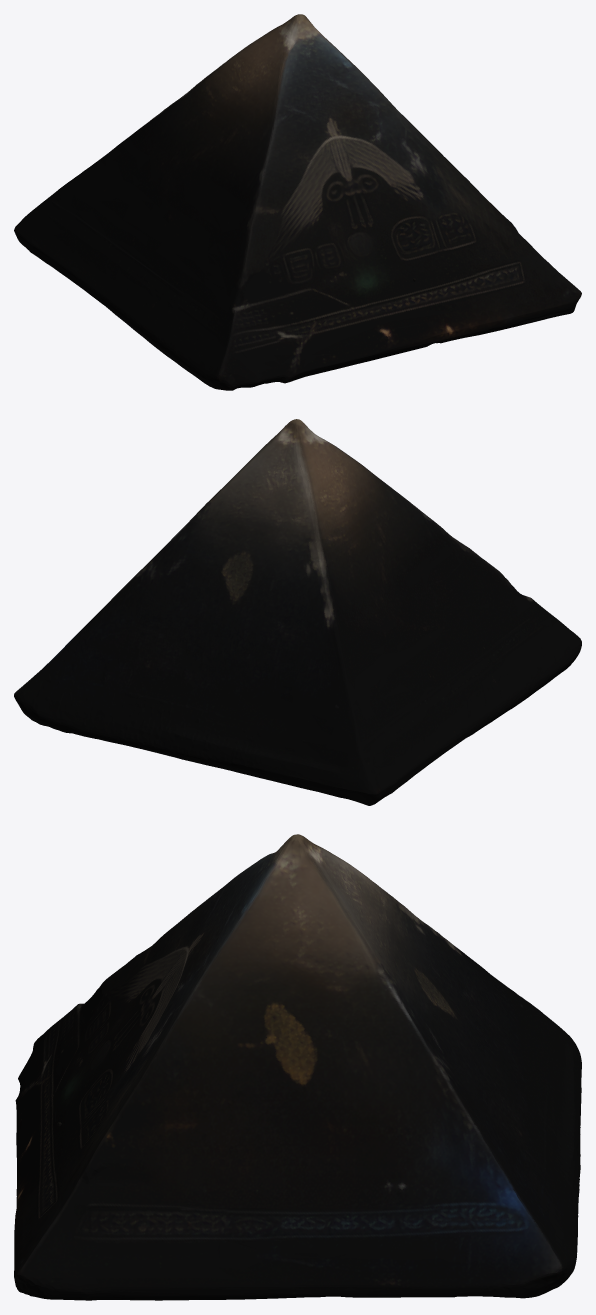
Rendered from piramidon.glb.
The picture shows the model from 3 angles, top to bottom: view 1: azimuth 30°, elevation 25°; view 2: azimuth 150°, elevation 25°; view 3: azimuth 270°, elevation 25°; orthographic projection. The views are drawn at different scales.
Parts seen in each view (by area): view 1: geometry_0; view 2: geometry_0; view 3: geometry_0.
Part boxes in pixels (x1,y1,x2,y2): geometry_0: [14, 14, 581, 390]; geometry_0: [14, 419, 581, 805]; geometry_0: [14, 834, 581, 1300].
Size of the model in its own units: 0.989 by 0.6811 by 1.
1 material, 1 textured.
